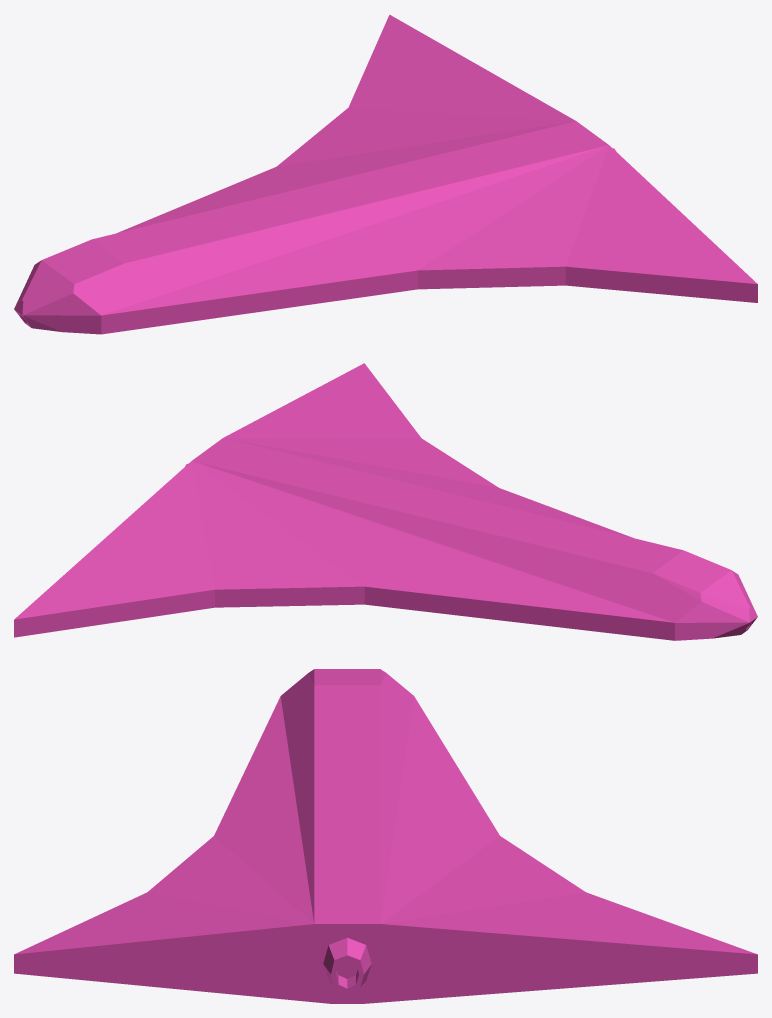
Rendered from Starship Basic.fbx.
3 views of the same model, one above another, from view 1: azimuth 30°, elevation 25°; view 2: azimuth 150°, elevation 25°; view 3: azimuth 270°, elevation 25° (orthographic). The views are drawn at different scales.
Visible parts, largest first — view 1: Cube; view 2: Cube; view 3: Cube.
Part boxes in pixels (bbox=[...]): Cube: bbox=[14, 14, 757, 334]; Cube: bbox=[14, 363, 757, 640]; Cube: bbox=[14, 669, 757, 1003].
Size of the model in its own units: 1041 by 132 by 1114.
